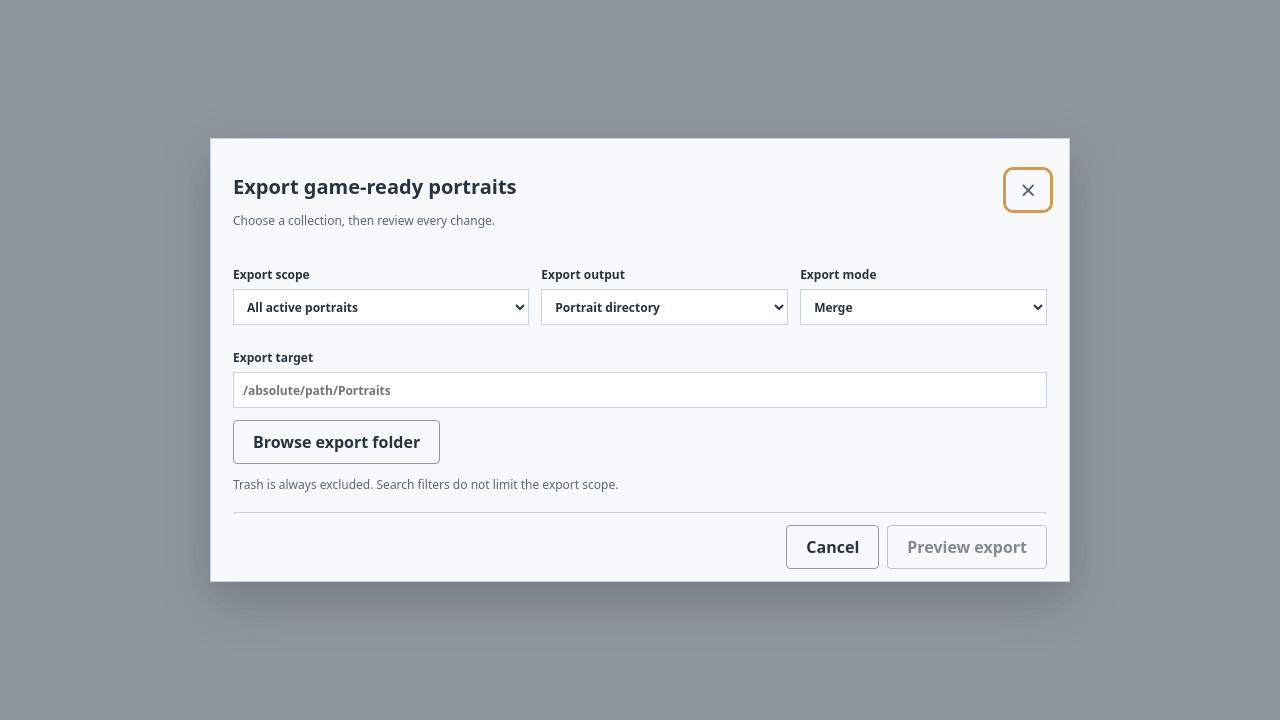
Test: editing mode retires the preview
Type "/tmp/Portraits" into the field labelled "Export target" at (640, 390), box [233,372,1047,408]
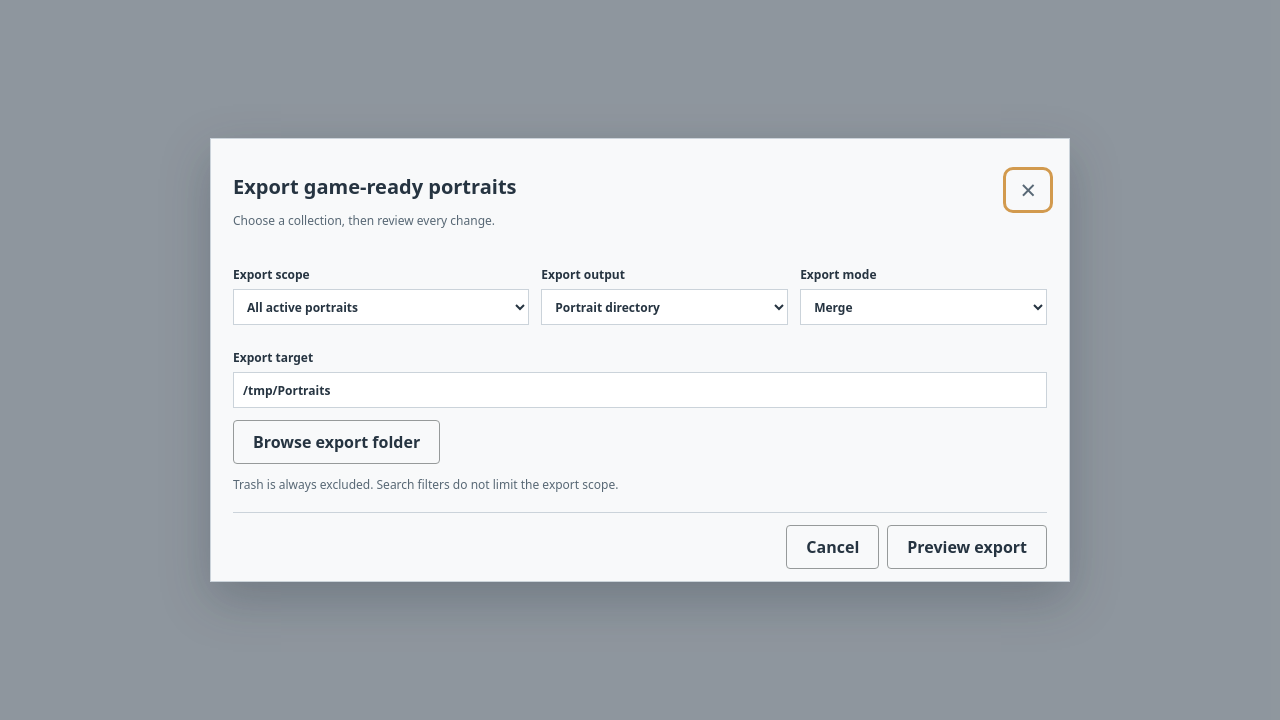
Click the button "Preview export" at (967, 547), box [887,525,1047,569]
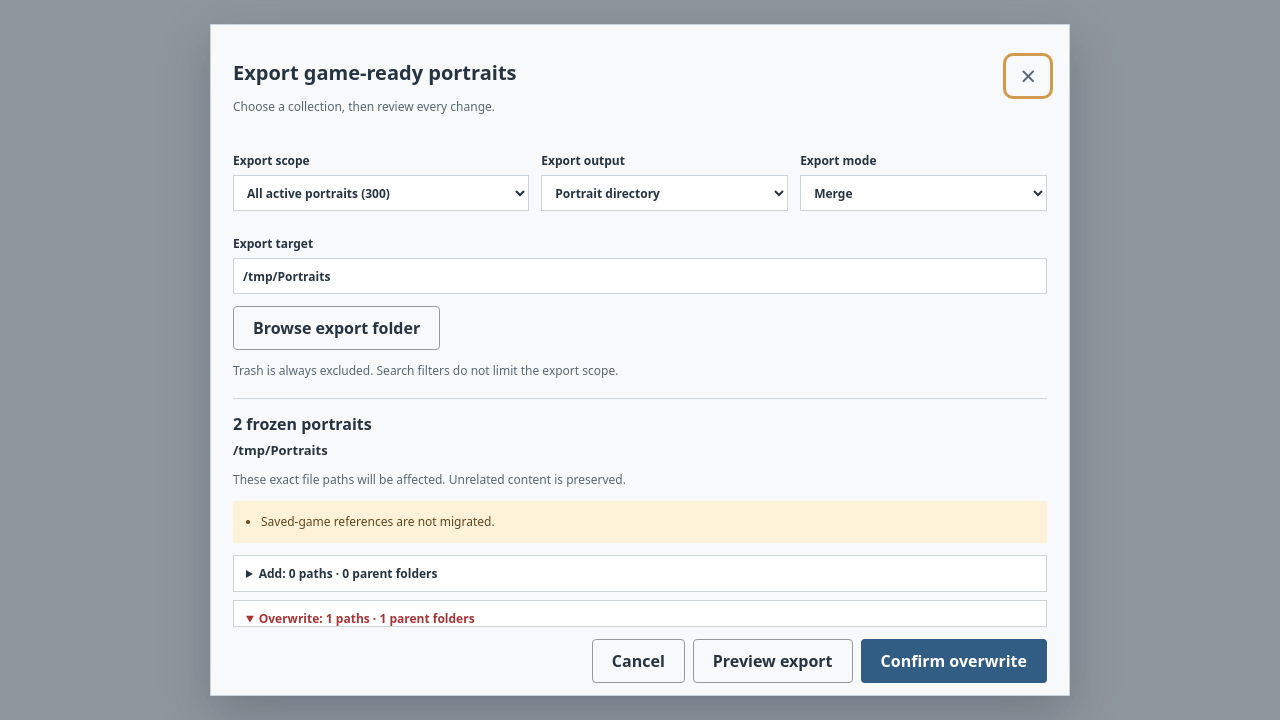
Expected: the heading "2 frozen portraits" is shown, [233,413,372,435]
Select "Replace collection" in the dropdown labelled "Export mode" at (924, 193), box [800,175,1047,211]
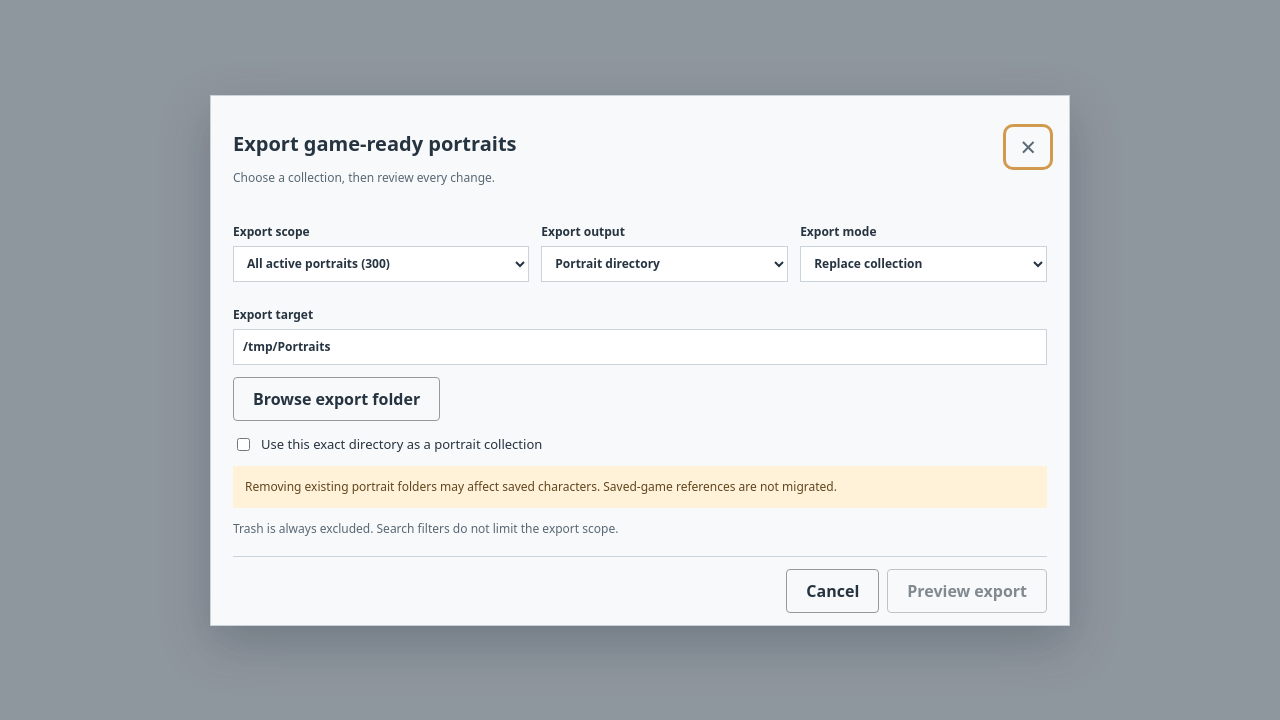
Expected: the heading "2 frozen portraits" is gone
